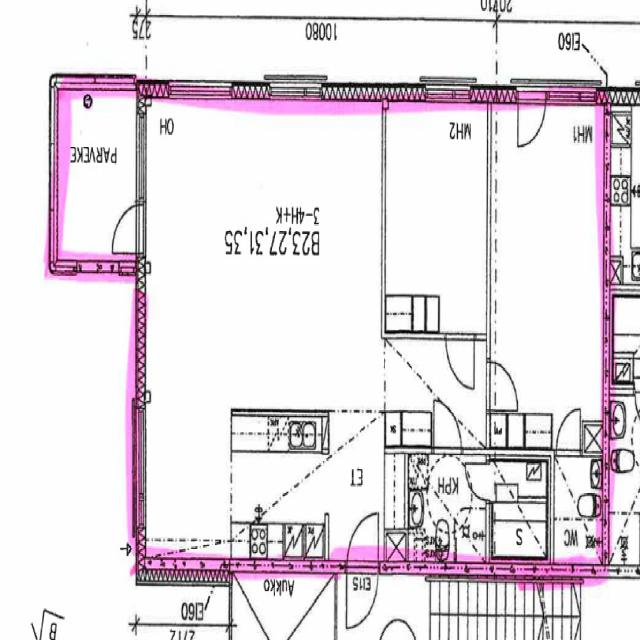door: (347, 504, 377, 570), (347, 559, 377, 625), (518, 80, 546, 148), (110, 205, 146, 253), (434, 397, 462, 453), (446, 334, 474, 389), (487, 361, 518, 410), (557, 404, 580, 453), (466, 464, 491, 499)
